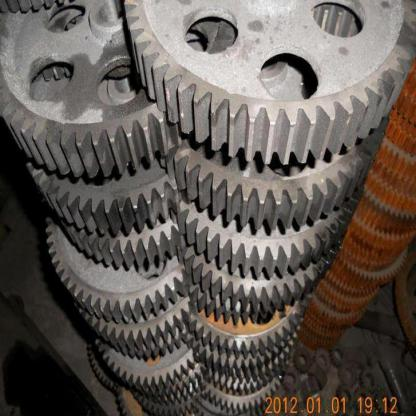FOD: (116, 0, 416, 173)
